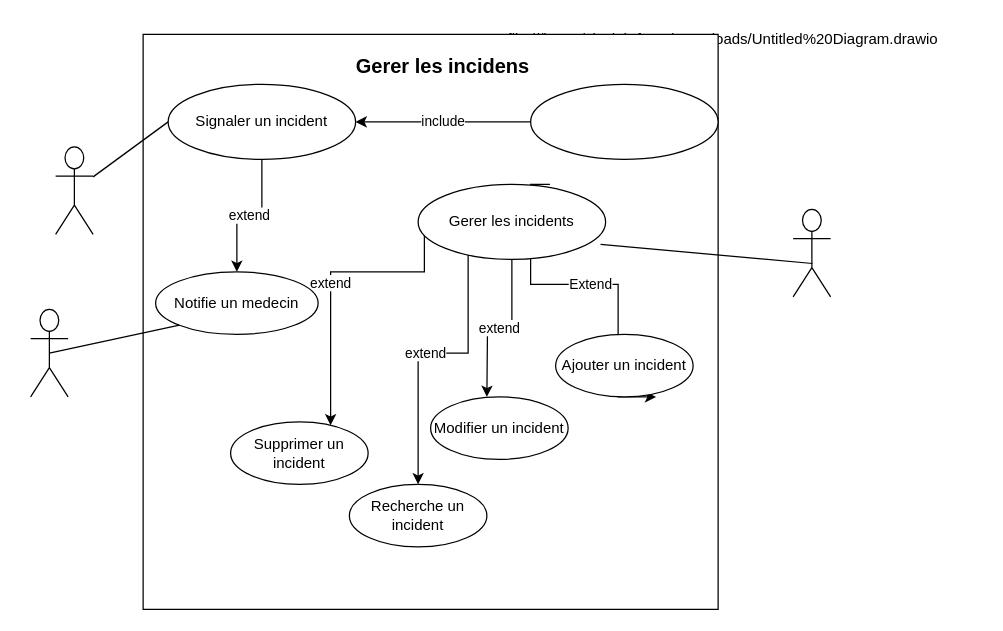
Some shapes in this 1003 by 631 pixel diagram are drawn without their labels. Each missing label, with the box of its shape:
Admin: (792, 208, 831, 297)
Medecin: (29, 308, 68, 397)
Seuil de risque: (529, 83, 718, 159)
User: (54, 146, 93, 234)
